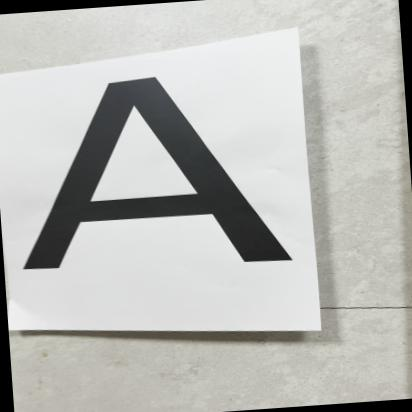seat: (6, 58, 307, 300)
